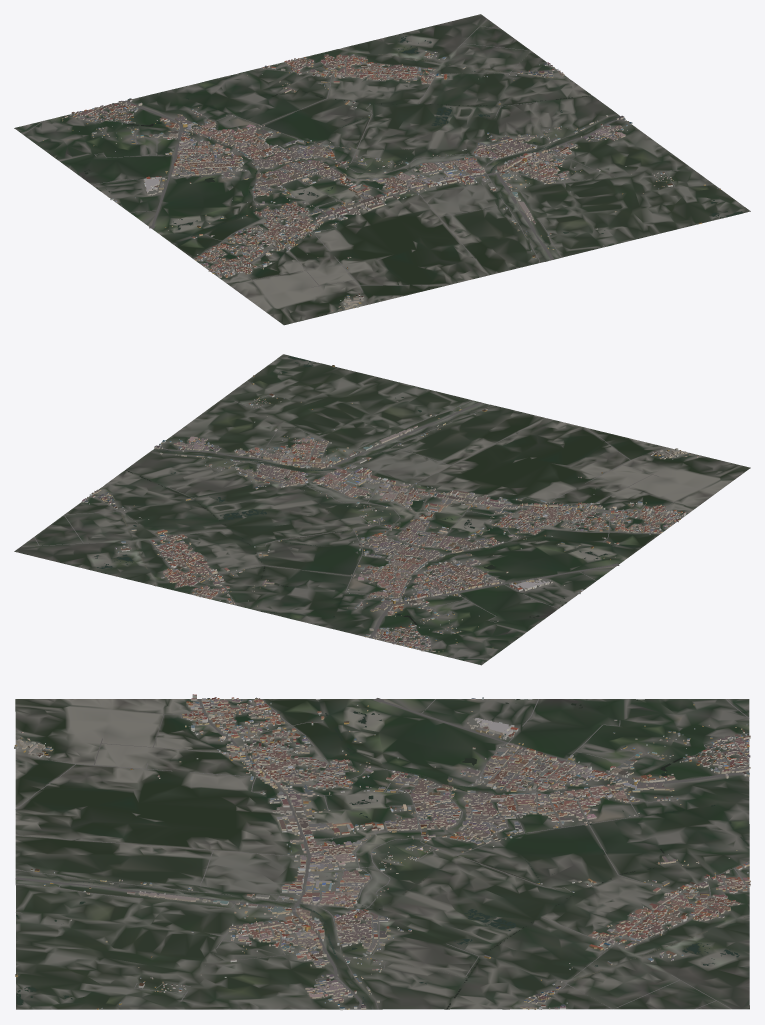
3 views of the same model, one above another, from view 1: azimuth 30°, elevation 25°; view 2: azimuth 150°, elevation 25°; view 3: azimuth 270°, elevation 25° (orthographic). The views are drawn at different scales.
Visible parts, largest first — view 1: ground, buildings, roads, water; view 2: ground, buildings, roads, water; view 3: ground, buildings, roads, water.
Part boxes in pixels (x1,y1,x2,y2): ground: (14, 14, 750, 325); buildings: (43, 50, 720, 311); roads: (22, 19, 677, 294); water: (55, 36, 742, 256); ground: (14, 354, 750, 665); buildings: (81, 365, 698, 655); roads: (21, 382, 687, 659); water: (94, 356, 615, 635); ground: (15, 699, 749, 1009); buildings: (14, 694, 750, 1010); roads: (15, 698, 749, 1009); water: (16, 699, 748, 1009).
Bounding box in the file's own units: 2822 × 30.15 × 2816.
